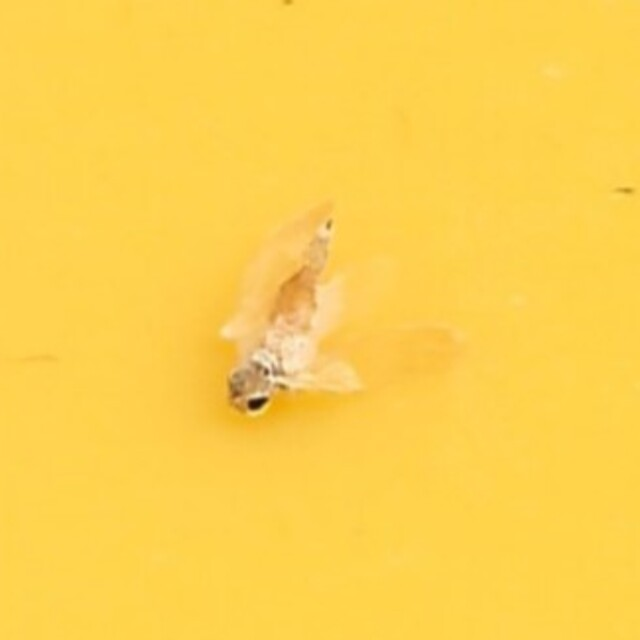Hemiptera: (197, 206, 443, 434)
